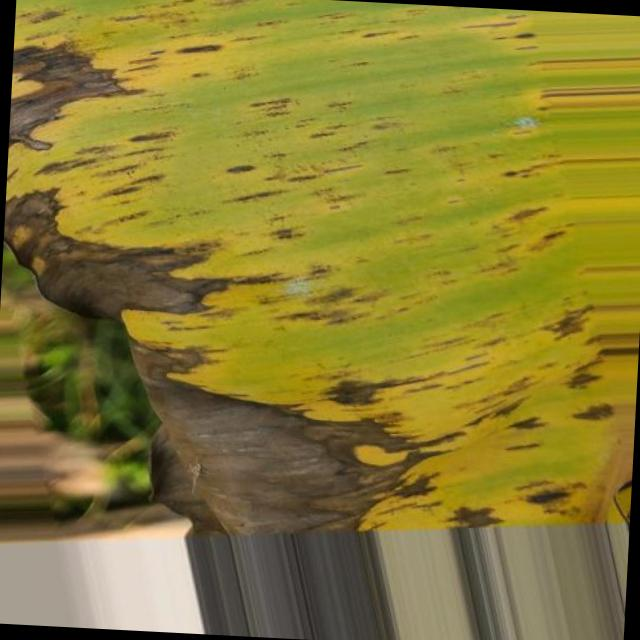Banana_Black_Sigatoka: (127, 326, 628, 564), (0, 32, 304, 329)
